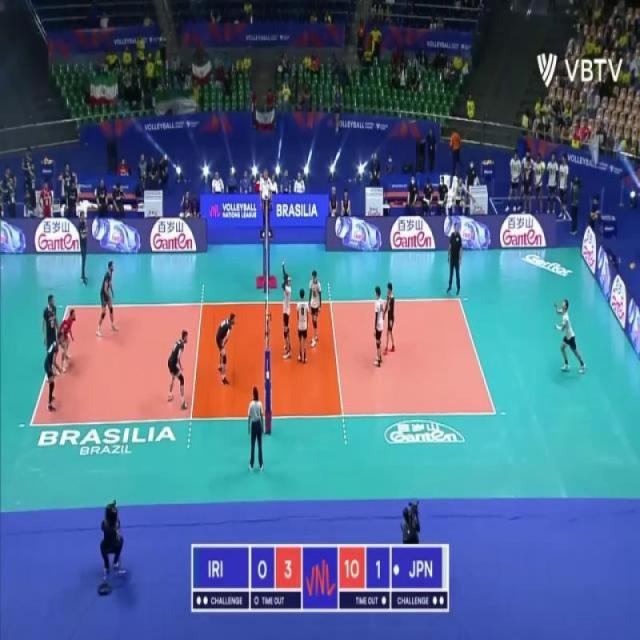volleyball: (482, 157, 494, 166), (539, 162, 546, 174), (44, 156, 48, 165)
